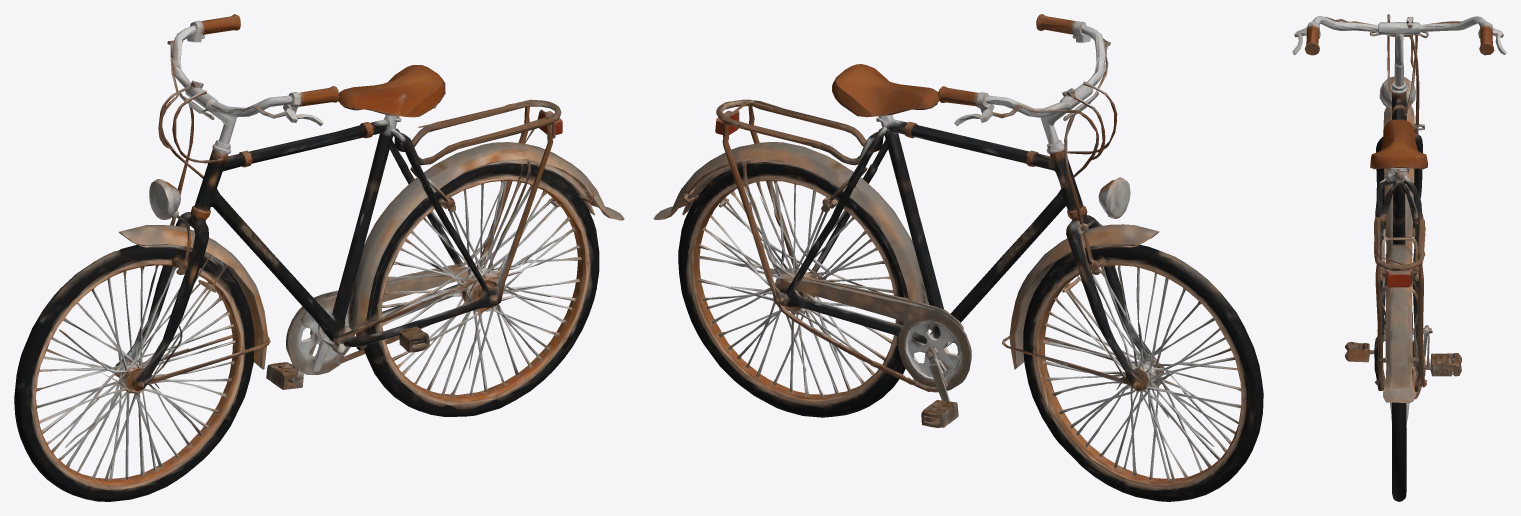
Rendered from bicycle_roadster.glb.
3 views of the same model, side by side, from view 1: azimuth 30°, elevation 25°; view 2: azimuth 150°, elevation 25°; view 3: azimuth 270°, elevation 25° (orthographic). The views are drawn at different scales.
Visible parts, largest first — view 1: main; view 2: main; view 3: main.
Part boxes in pixels (x1,y1,x2,y2): main: [14, 14, 624, 501]; main: [653, 14, 1263, 501]; main: [1292, 14, 1506, 501].
Size of the model in its own units: 1.8 by 1.18 by 0.624.
Materials: 1 (1 with a texture image).
